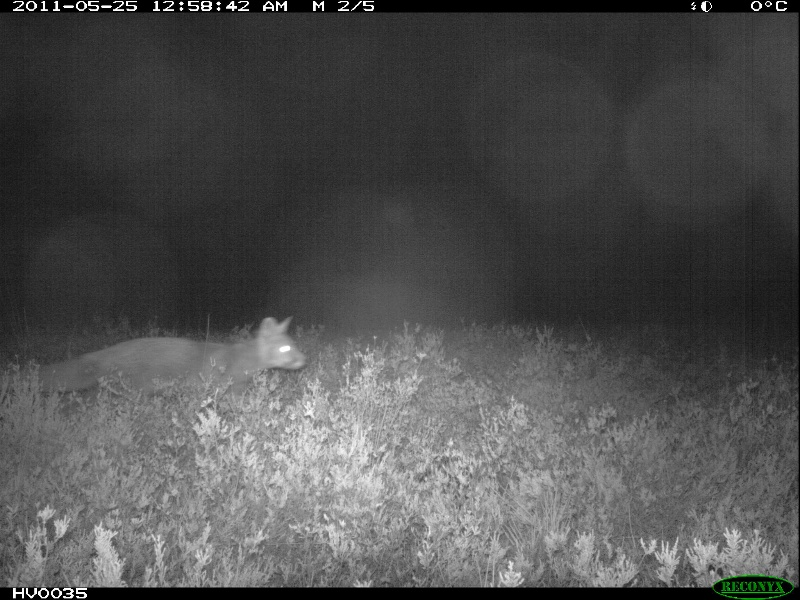fox: (15, 310, 312, 412)
